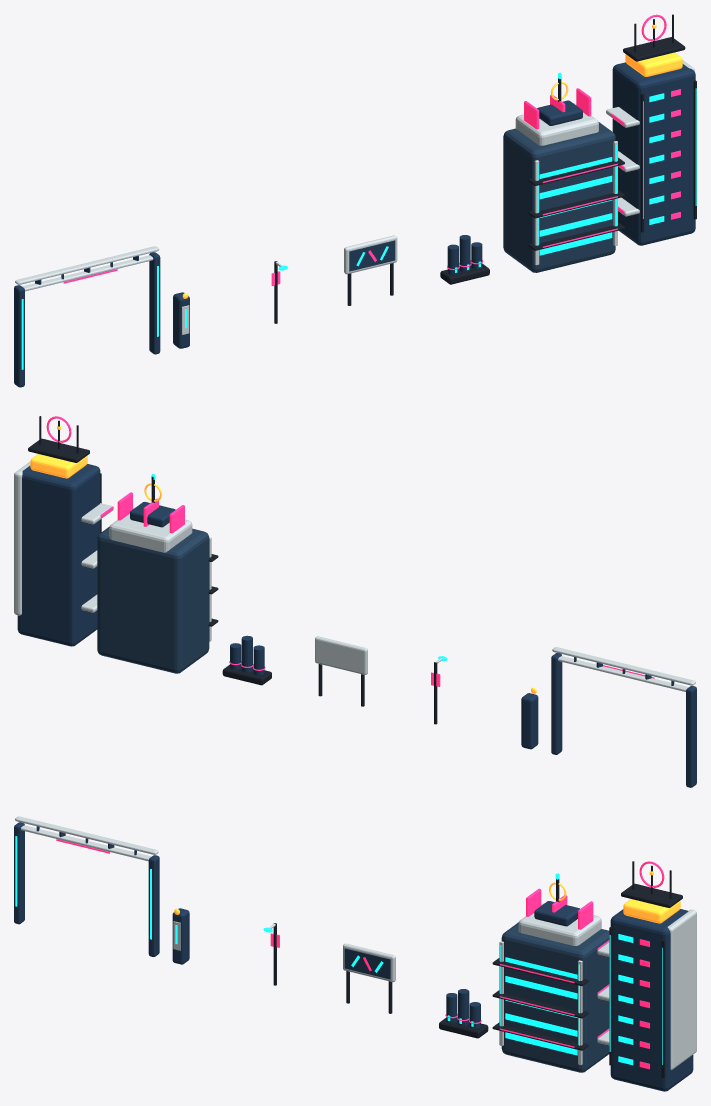
Rendered from world-kit.glb.
3 renders of one model, top to bottom at view 1: azimuth 30°, elevation 25°; view 2: azimuth 150°, elevation 25°; view 3: azimuth 330°, elevation 25°, orthographic.
Visible parts, largest first — view 1: BuildingBBody, BuildingABase, BuildingASetback, ArchPylon_4.15, ArchPylon_-4.15, ArchBeamUpper, BuildingBCrown, BillScreen, WorldDetail_B_RoofBridge, ArchBeamLower, WorldDetail_A_RoofPod, RoutePylonBody (+4 smaller); view 2: BuildingABase, BuildingBBody, BuildingASetback, BillFrame, BuildingBSpine, ArchPylon_4.15, ArchPylon_-4.15, RoutePylonBody, ArchBeamUpper, BuildingBCrown, WorldDetail_B_RoofBridge, ArchBeamLower (+1 smaller); view 3: BuildingABase, BuildingBBody, BuildingBSpine, BuildingASetback, ArchPylon_4.15, ArchPylon_-4.15, ArchBeamUpper, BuildingBCrown, BillScreen, WorldDetail_B_RoofBridge, ArchBeamLower, RoutePylonBody (+12 smaller).
Part boxes in pixels (x1,y1,x2,y2): BuildingBBody: (612, 62, 695, 245); BuildingABase: (503, 122, 615, 272); BuildingASetback: (515, 103, 598, 145); ArchPylon_4.15: (149, 252, 160, 354); ArchPylon_-4.15: (14, 285, 24, 387); ArchBeamUpper: (15, 246, 159, 284); BuildingBCrown: (625, 52, 682, 76); BillScreen: (349, 240, 395, 271); WorldDetail_B_RoofBridge: (623, 37, 685, 61); ArchBeamLower: (22, 255, 153, 291); WorldDetail_A_RoofPod: (537, 100, 582, 125); RoutePylonBody: (173, 292, 189, 348); BuildingABase: (97, 526, 209, 673); BuildingBBody: (17, 464, 100, 646); BuildingASetback: (109, 507, 192, 552); BillFrame: (315, 636, 367, 674); BuildingBSpine: (14, 462, 30, 615); ArchPylon_4.15: (551, 653, 562, 754); ArchPylon_-4.15: (686, 686, 696, 787); RoutePylonBody: (521, 693, 538, 749); ArchBeamUpper: (552, 647, 695, 685); BuildingBCrown: (30, 454, 87, 478); WorldDetail_B_RoofBridge: (28, 438, 89, 462); ArchBeamLower: (558, 656, 688, 691); BuildingABase: (501, 922, 609, 1072); BuildingBBody: (610, 909, 693, 1091); BuildingBSpine: (667, 909, 696, 1070); BuildingASetback: (518, 903, 601, 945); ArchPylon_4.15: (148, 855, 159, 956); ArchPylon_-4.15: (14, 822, 24, 924); ArchBeamUpper: (15, 816, 158, 854); BuildingBCrown: (623, 899, 680, 923); BillScreen: (344, 948, 390, 979); WorldDetail_B_RoofBridge: (621, 883, 682, 907); ArchBeamLower: (21, 825, 151, 861); RoutePylonBody: (172, 908, 189, 964).
Size of the model in its own units: 41.05 by 12.66 by 3.92.
